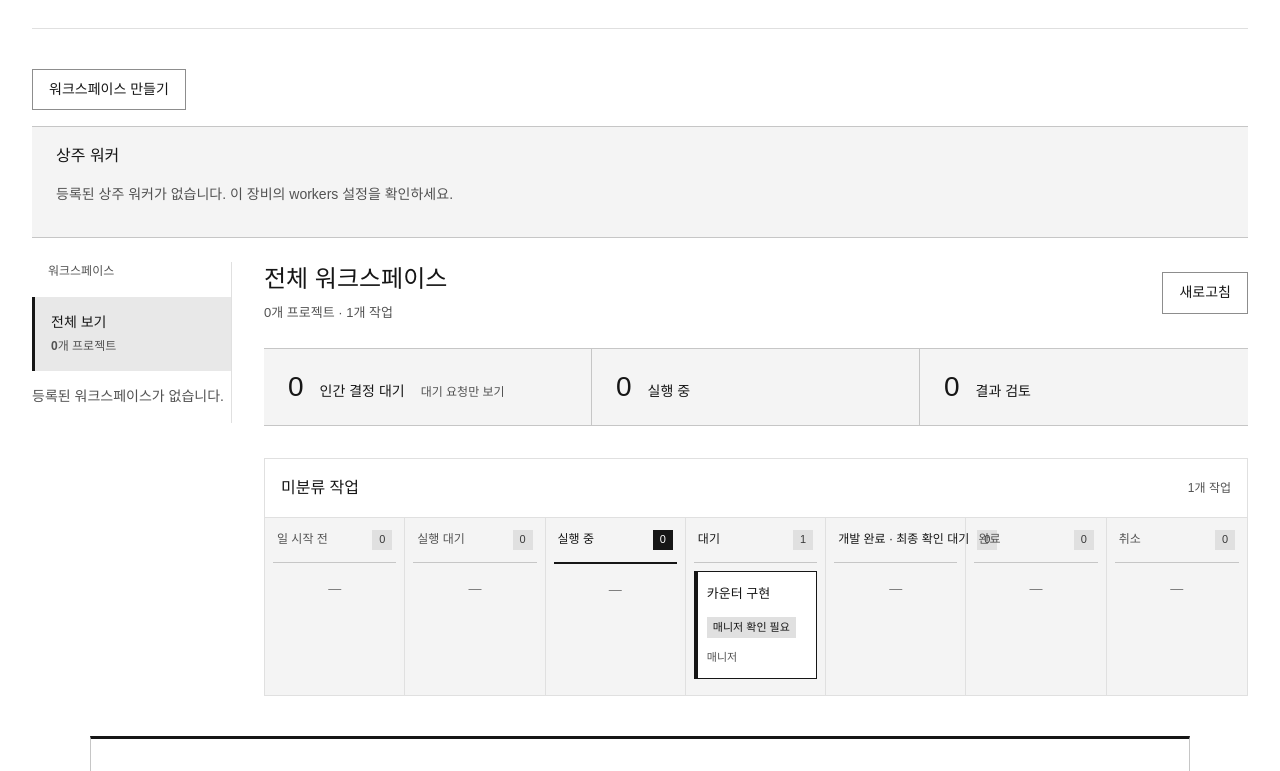
Test: manager fact questions do not count as human decisions or expose human answer controls
The width and height of the screenshot is (1280, 771).
(page scrolled)
Click the button "0 인간 결정 대기 대기 요청만 보기": (428, 387) [264,349,592,425]
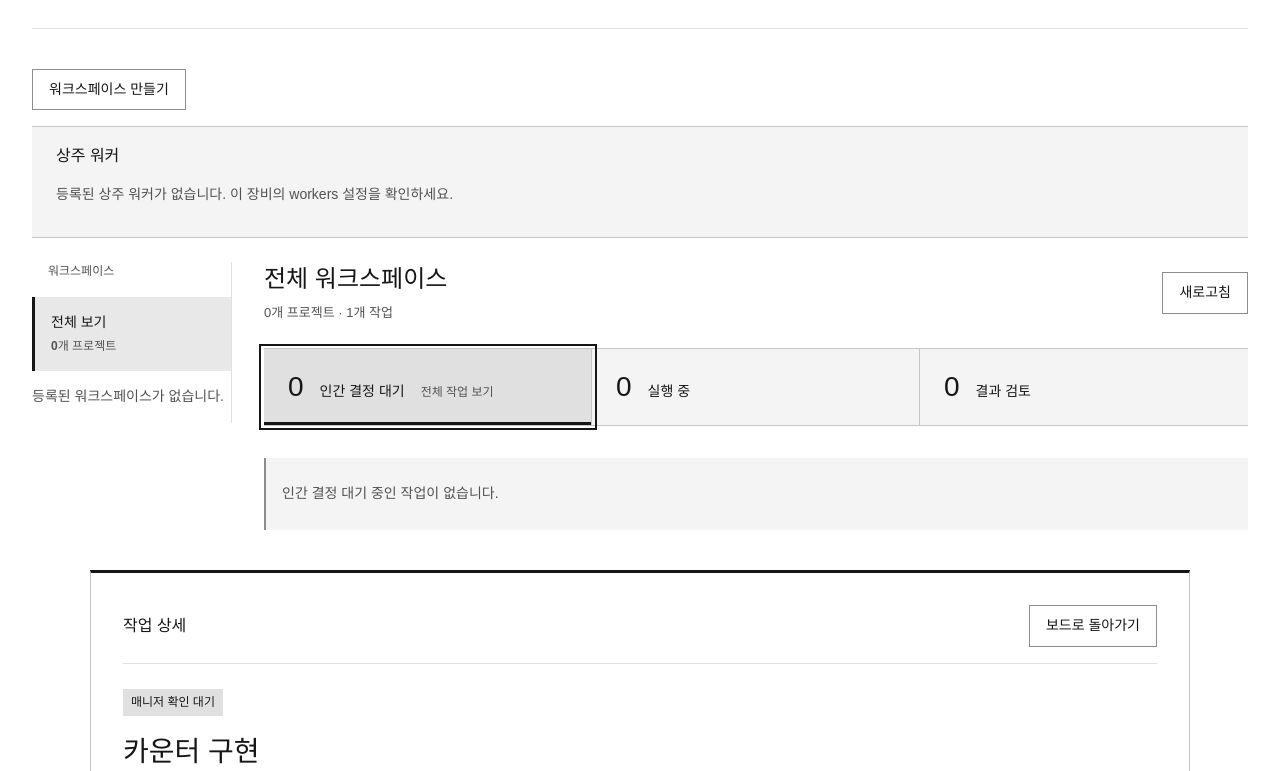
Expected: the text "인간 결정 대기 중인 작업이 없습니다." is shown, [264,458,1248,530]
